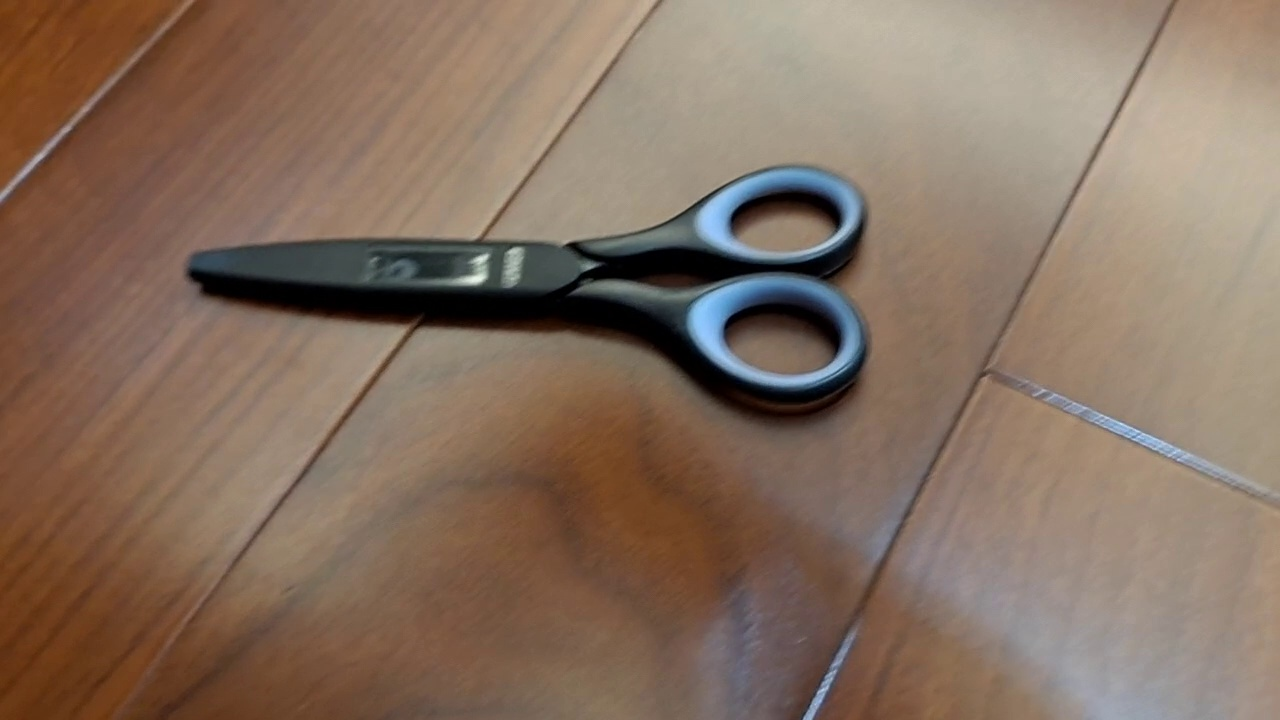scissors: (182, 161, 873, 406)
